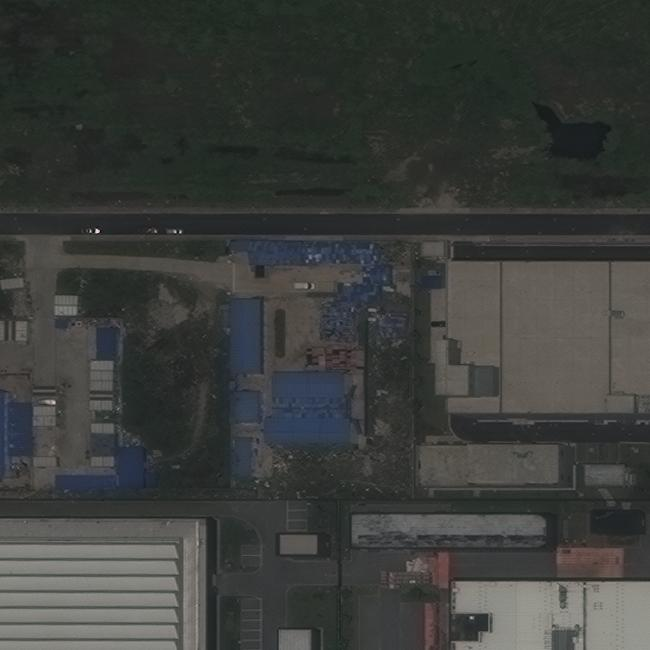parking lot: (239, 595, 262, 643), (287, 499, 309, 531)
